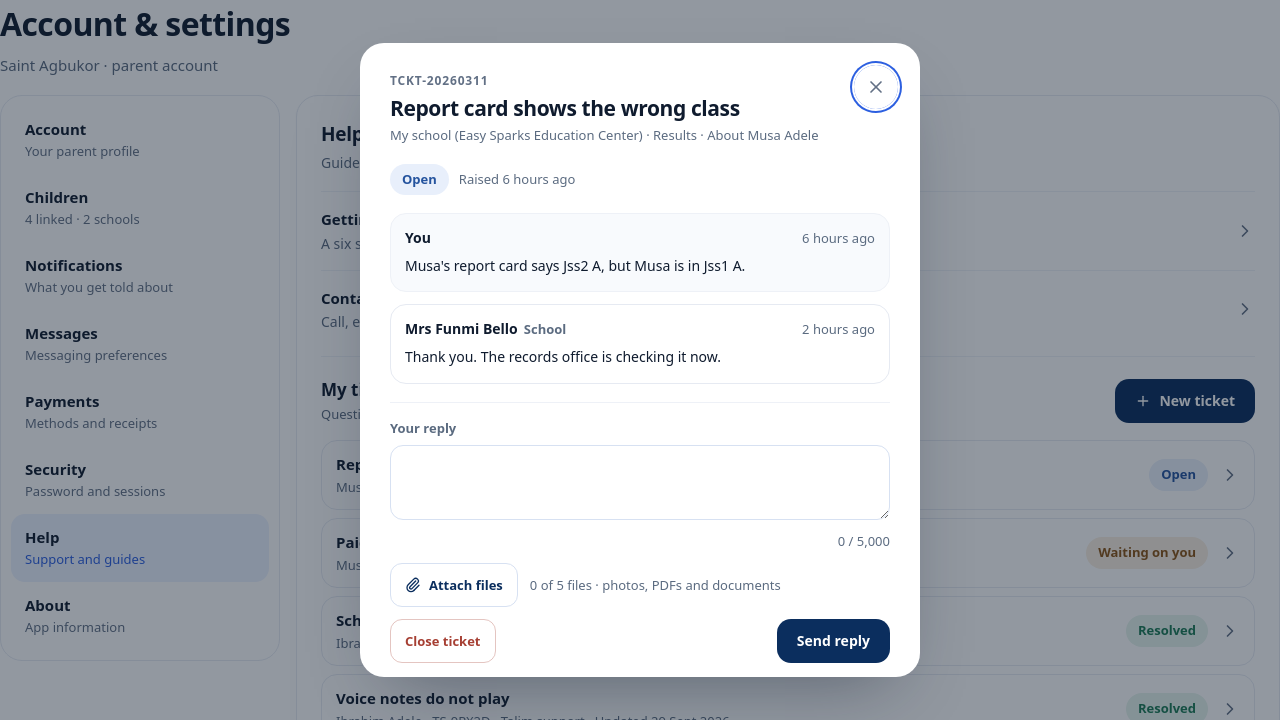
Ticket thread (fixtures) › closes after a confirm step, then takes no replies
Check: the list named "Messages" is shown, box [390,213,890,384]
Click the button "Close ticket". click: (443, 641)
box: [390,619,496,663]
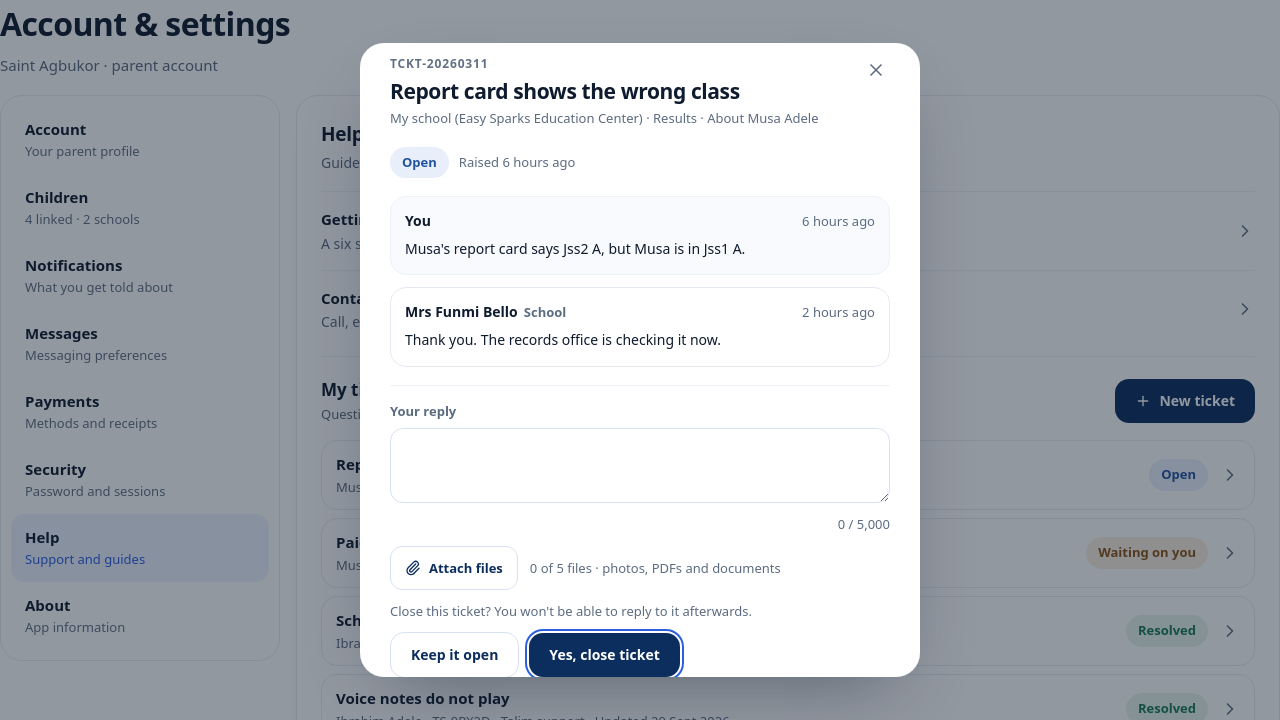
Click the button "Yes, close ticket". click: (605, 655)
box: [529,633,680,677]
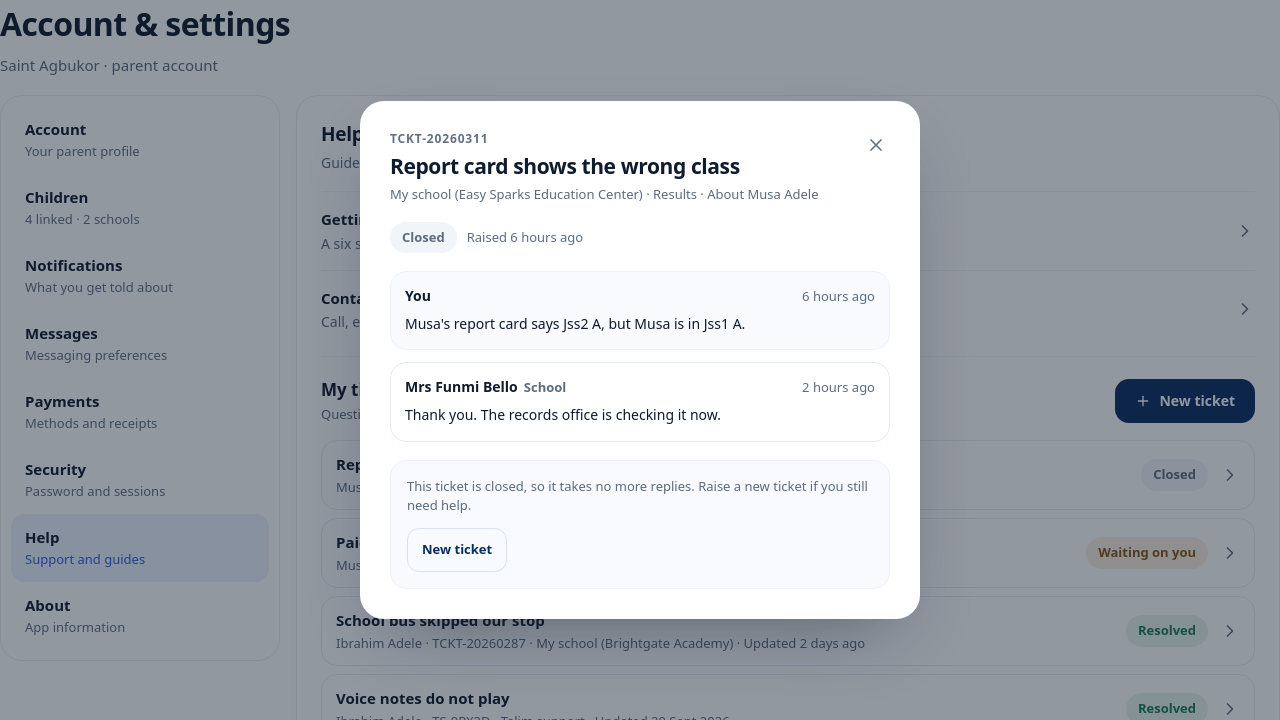
Check: the text "This ticket is closed, so it takes no more replies. Raise a new ticket if you still need help." is shown, box [407,477,868,514]
Check: the label labelled "Your reply" is gone
